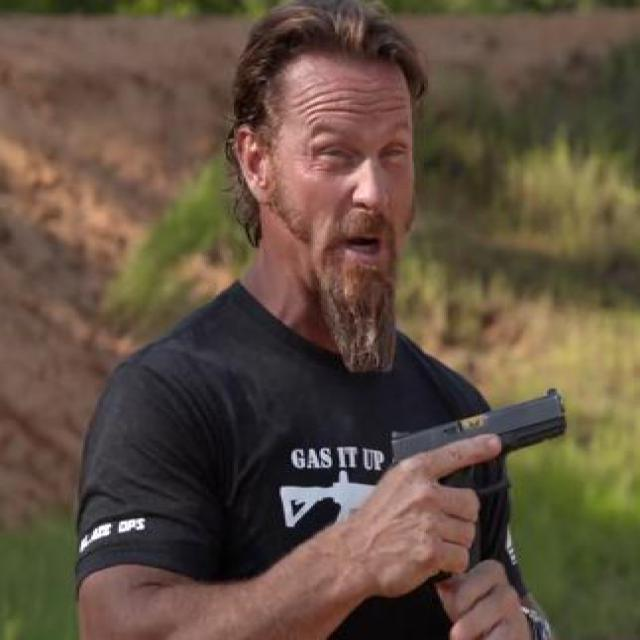gun: (392, 384, 573, 572)
